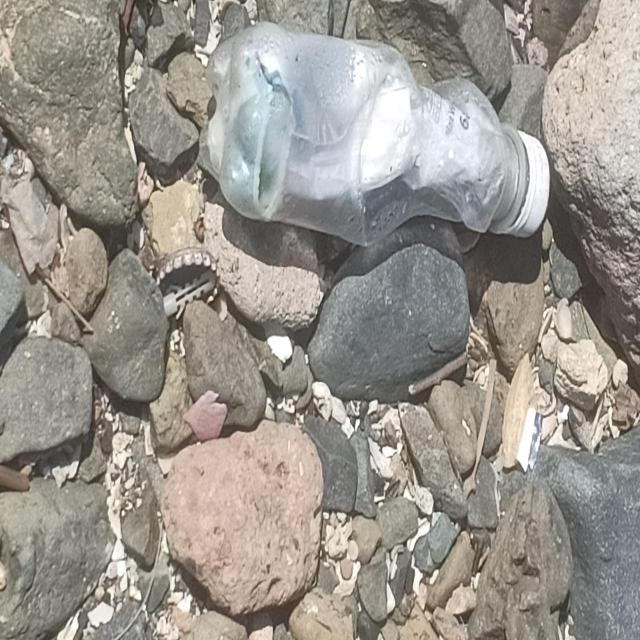plastic_waste: (206, 25, 553, 248)
